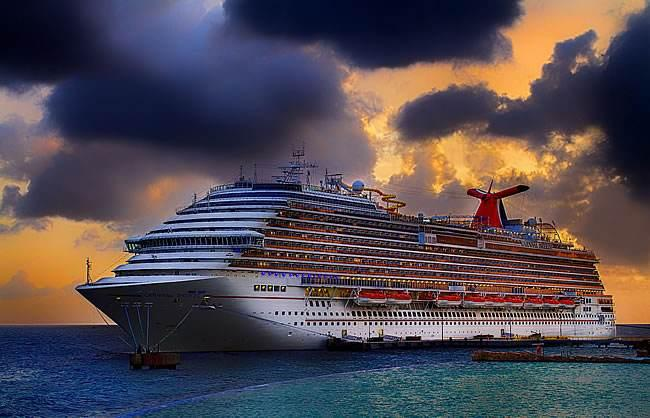youlun: (77, 141, 619, 342)
